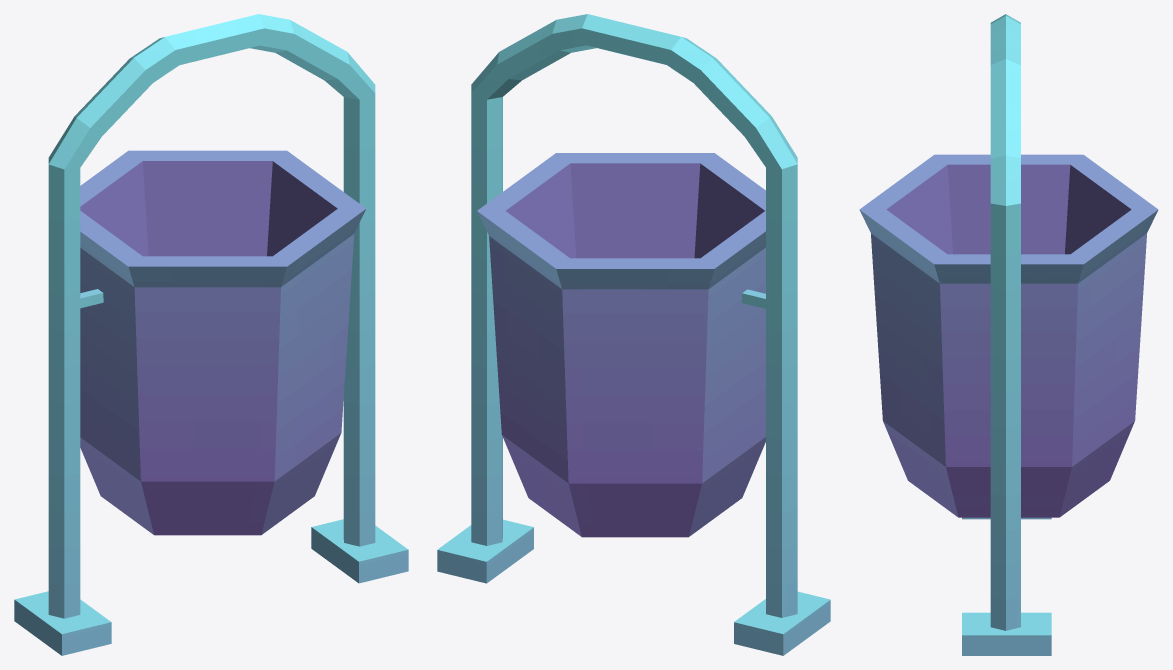
The model's file is flower_pod_1.gltf.
3 renders of one model, left to right at view 1: azimuth 30°, elevation 25°; view 2: azimuth 150°, elevation 25°; view 3: azimuth 270°, elevation 25°, orthographic. The views are drawn at different scales.
Parts seen in each view (by area): view 1: Object_38; view 2: Object_38; view 3: Object_38.
Part boxes in pixels (bbox=[...]): Object_38: bbox=[14, 14, 408, 655]; Object_38: bbox=[437, 14, 830, 655]; Object_38: bbox=[859, 14, 1158, 655].
Size of the model in its own units: 1.74 by 2.74 by 1.38.
Materials: 1 (1 with a texture image).
